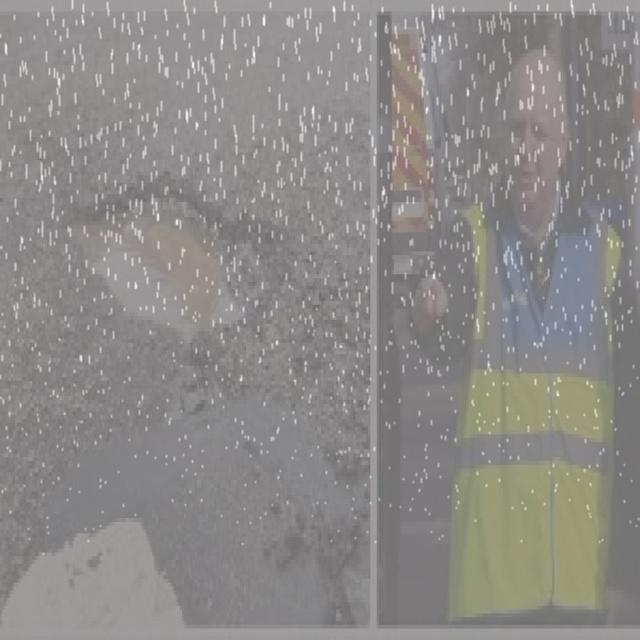Pothole: (39, 168, 313, 402)
